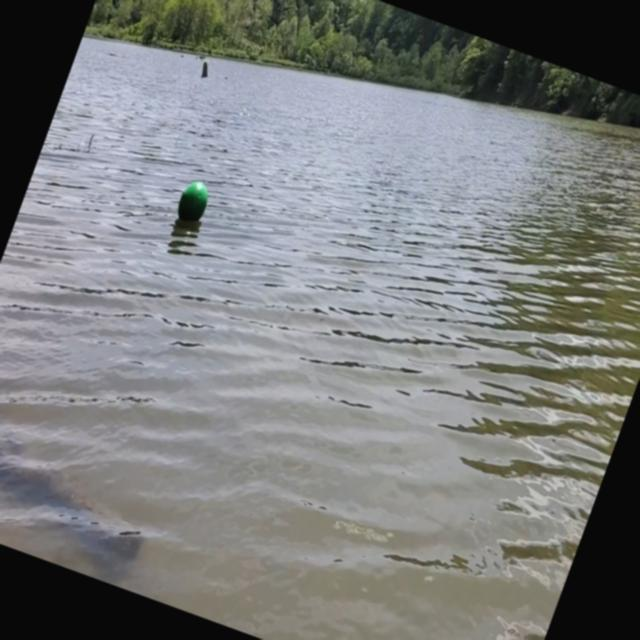buoy: (167, 170, 220, 238)
